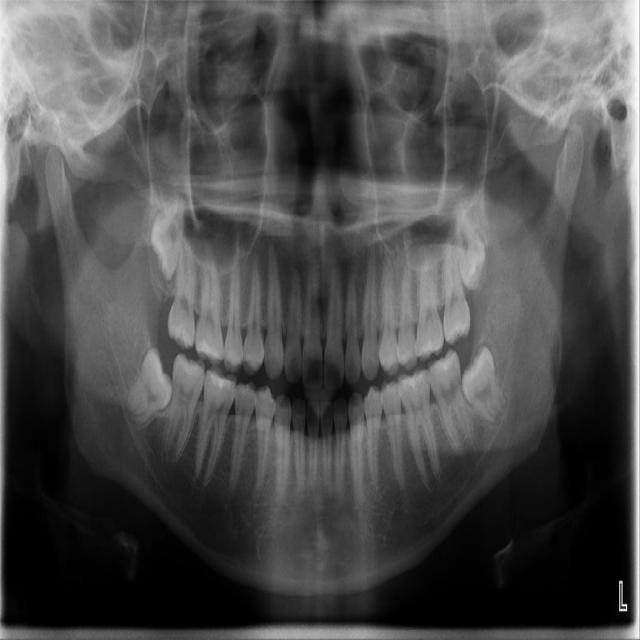3M ESPE Implant: (144, 191, 189, 282)
73: (590, 582, 594, 598)
BioHorizons Implant: (443, 243, 470, 344)
BioLife Implant: (451, 206, 489, 290)
Biomet 3i Implant: (453, 341, 508, 428)
Blue Sky Bio Implant: (424, 349, 473, 452)
Caries: (167, 240, 199, 351)
Implant: (162, 351, 207, 458)
Keystone Dental Implant: (119, 345, 190, 432)
